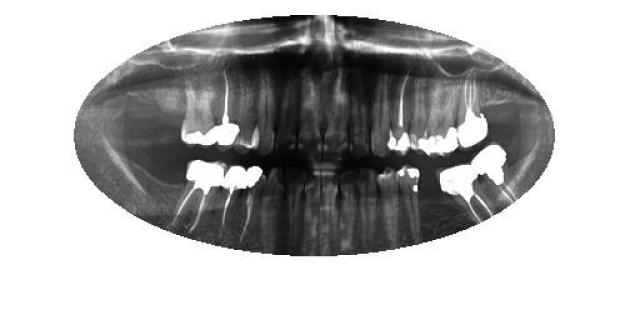Fillings: (424, 82, 456, 156), (182, 82, 218, 146), (395, 164, 420, 245)
Implant: (170, 160, 224, 232), (438, 162, 492, 222), (456, 66, 489, 150), (472, 142, 518, 202), (215, 68, 244, 148), (238, 165, 268, 241), (388, 66, 408, 156), (218, 161, 244, 230)
